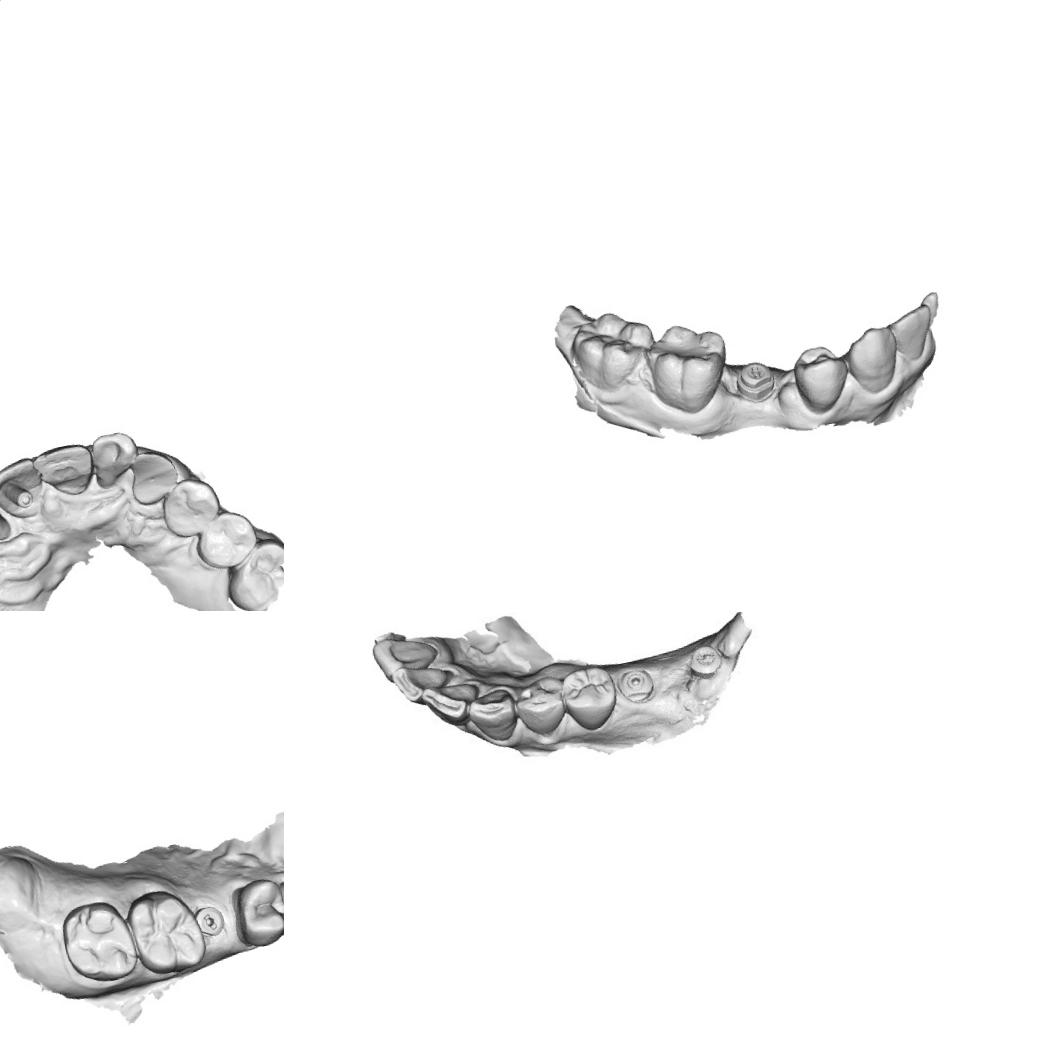canine: (838, 319, 906, 398), (124, 444, 182, 508), (467, 689, 518, 746)
implant: (686, 640, 722, 686), (614, 666, 654, 702)
implant_minus: (730, 356, 780, 407), (192, 899, 230, 941)
incisor: (30, 437, 98, 503), (86, 427, 144, 491), (884, 300, 940, 365), (0, 453, 48, 525), (373, 630, 439, 682), (393, 658, 463, 706), (424, 680, 476, 723), (0, 493, 13, 548)
molar: (638, 313, 739, 422), (563, 302, 664, 398), (52, 892, 146, 992), (122, 880, 210, 980), (215, 530, 284, 611)
premolar: (785, 339, 856, 419), (189, 504, 262, 573), (156, 472, 225, 542), (227, 871, 284, 951), (511, 671, 571, 742), (557, 665, 620, 730)
